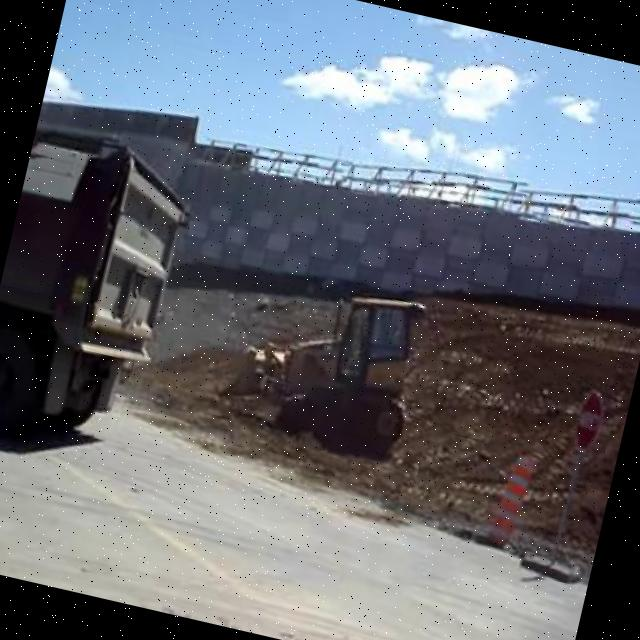Bulldozer: (208, 258, 440, 474)
Dump Truck: (0, 113, 199, 455)
